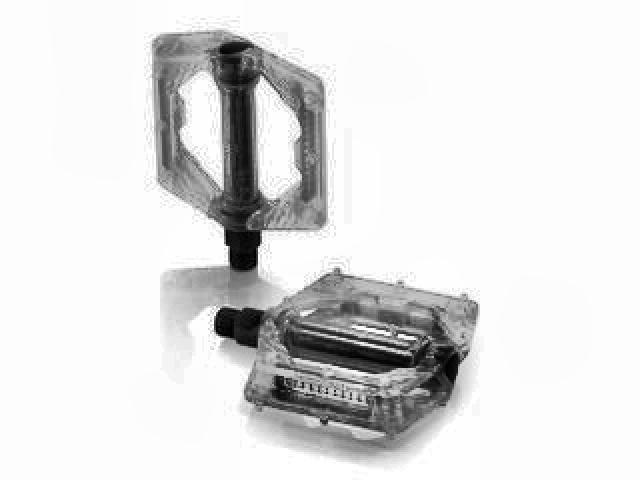pedal: (212, 271, 483, 448), (145, 26, 331, 270)
